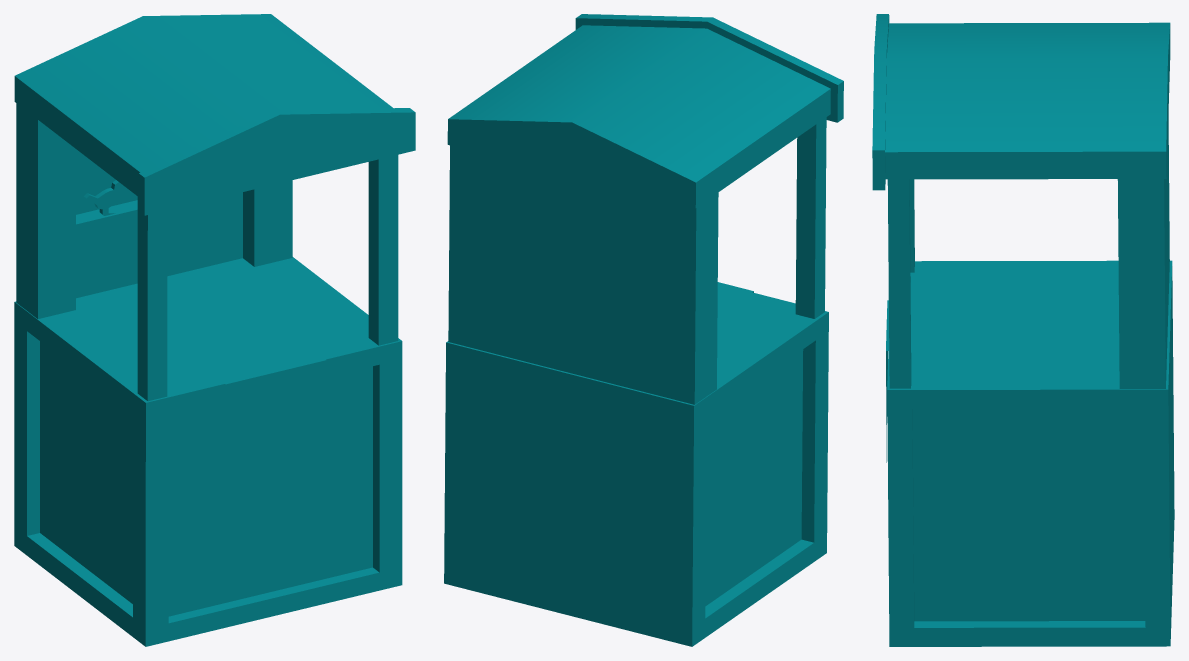
The model's file is stand_shoot.fbx.
3 renders of one model, left to right at view 1: azimuth 30°, elevation 25°; view 2: azimuth 150°, elevation 25°; view 3: azimuth 270°, elevation 25°, orthographic. The views are drawn at different scales.
Visible parts, largest first — view 1: polySurface5; view 2: polySurface5; view 3: polySurface5.
Part boxes in pixels (left/top/right/bottom): polySurface5: left=14, top=14, right=415, bottom=646; polySurface5: left=444, top=14, right=843, bottom=646; polySurface5: left=872, top=14, right=1174, bottom=646.
Size of the model in its own units: 417 by 753 by 388.
